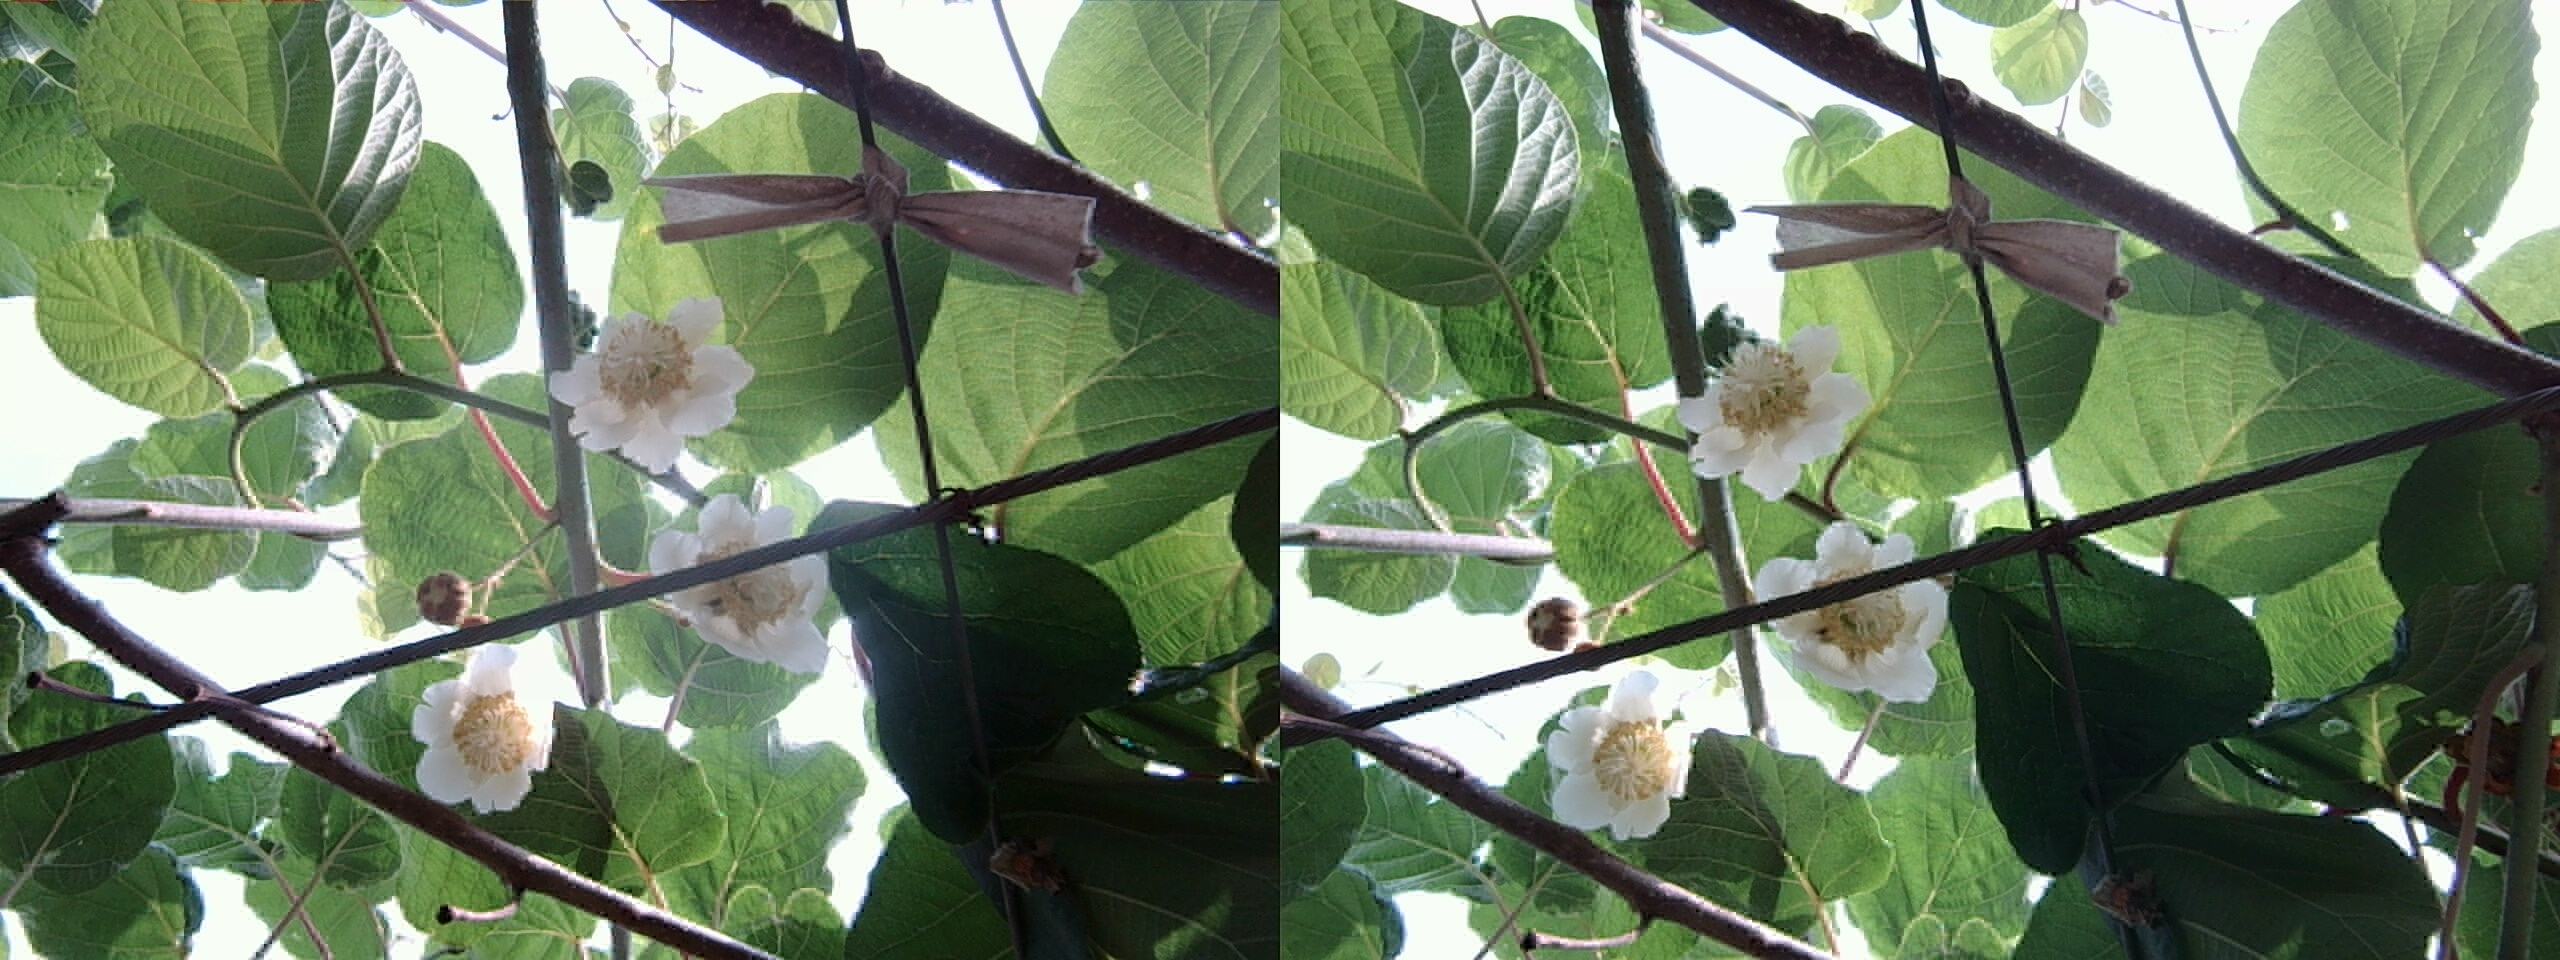flower: (549, 291, 761, 478), (1667, 309, 1868, 496), (1758, 529, 1954, 709), (1530, 661, 1704, 846), (403, 647, 563, 826)
